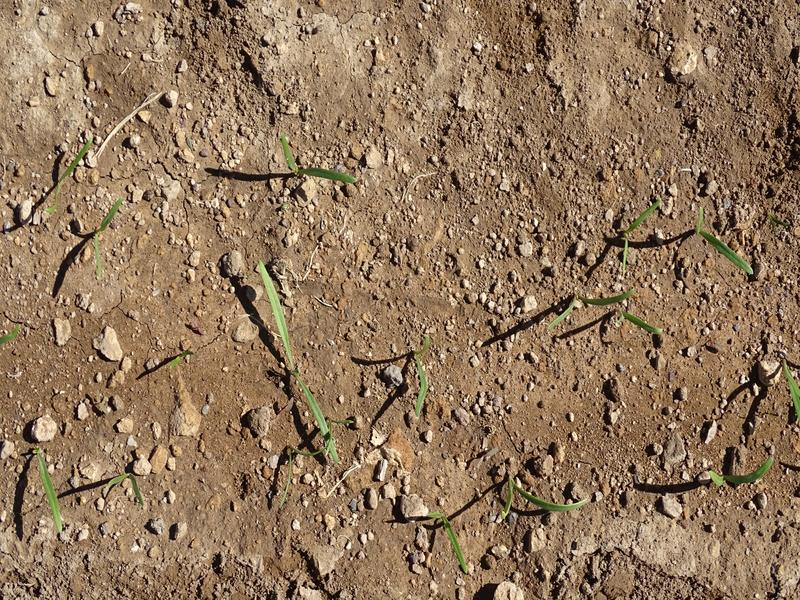Espinaca: (252, 259, 343, 460), (494, 470, 596, 525), (553, 291, 667, 338), (277, 130, 360, 182), (695, 205, 755, 275), (75, 196, 123, 282), (29, 452, 73, 538), (700, 446, 776, 491), (404, 332, 438, 418), (611, 210, 650, 278)
